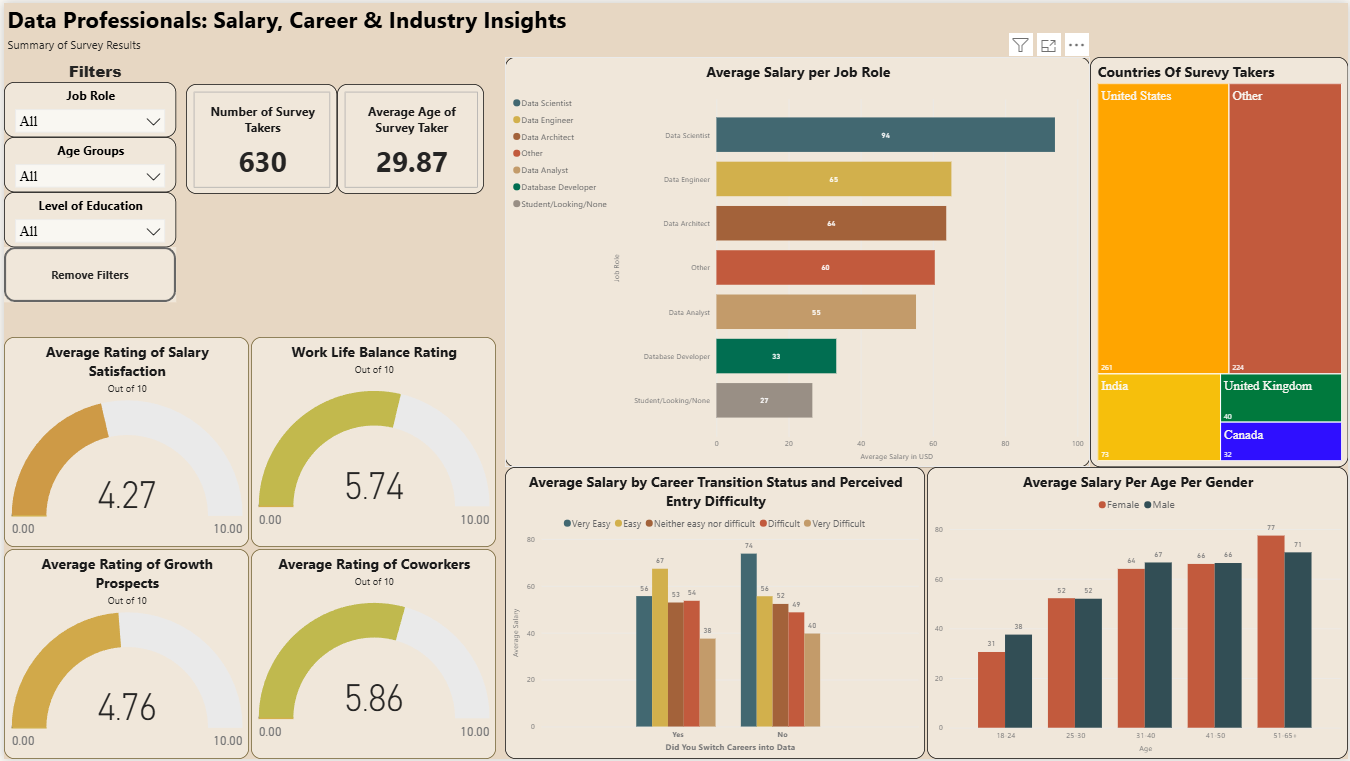

Layout of this report page (visuals, bound fields, positions):
{"tool":"powerbi","page":{"name":"Duplicate of Salary Comparisons for Data Survey","canvas":[1920,1080],"ordinal":0},"visuals":[{"type":"cardVisual","fields":{"Data":["Count(Data Professional Survey.Unique ID)"]},"box":[260,115.7,215.7,157.1],"z":0},{"type":"cardVisual","fields":{"Data":["Avg(Data Professional Survey.Q10 - Current Age)"]},"box":[475.7,115.7,210,157.1],"z":1000},{"type":"barChart","title":"Average Salary per Job Role","fields":{"Category":["Data Professional Survey.Q1 - Which Title Best Fits your Current Role?.1"],"Series":["Data Professional Survey.Q1 - Which Title Best Fits your Current Role?.1"],"Y":["Avg(Data Professional Survey.Average Salary)"]},"box":[715.7,77.1,835.7,585.7],"z":2000},{"type":"treemap","title":"Countries Of Surevy Takers","fields":{"Group":["Data Professional Survey.Q11 - Which Country do you live in?.1"],"Values":["CountNonNull(Data Professional Survey.Q11 - Which Country do you live in?.1)"]},"box":[1551.4,77.1,368.6,585.7],"z":3000},{"type":"gauge","title":"Work Life Balance Rating","fields":{"Y":["Avg(Data Professional Survey.Q6 - How Happy are you in your Current Position with the following? (Work/Life Balance))"]},"box":[352.9,477.1,350,300],"z":4000},{"type":"gauge","title":"Average Rating of Salary Satisfaction","fields":{"Y":["Avg(Data Professional Survey.Q6 - How Happy are you in your Current Position with the following? (Salary))"]},"box":[0,477.1,350,300],"z":5000},{"type":"clusteredColumnChart","title":"Average Salary Per Age Per Gender","fields":{"Category":["Data Professional Survey.Q10 - Current Age (groups)"],"Series":["Data Professional Survey.Q9 - Male/Female?"],"Y":["Avg(Data Professional Survey.Average Salary)"]},"box":[1318.6,662.9,601,417.1],"z":6000},{"type":"clusteredColumnChart","title":"Average Salary by Career Transition Status and Perceived Entry Difficulty","fields":{"Category":["Data Professional Survey.Q2 - Did you switch careers into Data?"],"Series":["Sort Order Table.Q7 - How difficult was it for you to break into Data?"],"Y":["Avg(Data Professional Survey.Average Salary)"]},"box":[715.7,662.9,600,417.1],"z":7000},{"type":"textbox","title":"Data Professionals: Salary, Career & Industry Insights","box":[0,0,1108.6,77.1],"z":8000},{"type":"textbox","box":[0,76.7,260,271.7],"z":9000},{"type":"slicer","title":"Job Role","fields":{"Values":["Data Professional Survey.Q1 - Which Title Best Fits your Current Role?.1"]},"box":[0,112.9,245.7,78.6],"z":10000},{"type":"slicer","title":"Age Groups","fields":{"Values":["Data Professional Survey.Q10 - Current Age (groups)"]},"box":[0,191.4,245.7,78.6],"z":11000},{"type":"slicer","title":"Level of Education","fields":{"Values":["Data Professional Survey.Highest Level of Eductaion"]},"box":[0,270,245.7,78.6],"z":12000},{"type":"actionButton","box":[0,348.6,245.7,78.6],"z":13000},{"type":"gauge","title":"Average Rating of Growth Prospects","fields":{"Y":["Avg(Data Professional Survey.Q6 - How Happy are you in your Current Position with the following? (Upward Mobility))"]},"box":[0,780,350,300],"z":14000},{"type":"gauge","title":"Average Rating of Coworkers","fields":{"Y":["Avg(Data Professional Survey.Q6 - How Happy are you in your Current Position with the following? (Coworkers))"]},"box":[352.9,780,350,300],"z":15000}]}

Visuals, with their boxes in screenshot pixels (x1, y1, x2, y2), scaled from the page's 1920x1080 canvas onto the 1350x761 screenshot:
cardVisual - Count(Data Professional Survey.Unique ID): left=183, top=82, right=334, bottom=192
cardVisual - Avg(Data Professional Survey.Q10 - Current Age): left=334, top=82, right=482, bottom=192
"Average Salary per Job Role" barChart: left=503, top=54, right=1091, bottom=467
"Countries Of Surevy Takers" treemap: left=1091, top=54, right=1349, bottom=467
"Work Life Balance Rating" gauge: left=248, top=336, right=494, bottom=548
"Average Rating of Salary Satisfaction" gauge: left=0, top=336, right=246, bottom=548
"Average Salary Per Age Per Gender" clusteredColumnChart: left=927, top=467, right=1349, bottom=760
"Average Salary by Career Transition Status and Perceived Entry Difficulty" clusteredColumnChart: left=503, top=467, right=925, bottom=760
"Data Professionals: Salary, Career & Industry Insights" textbox: left=0, top=0, right=779, bottom=54
textbox: left=0, top=54, right=183, bottom=245
"Job Role" slicer: left=0, top=80, right=173, bottom=135
"Age Groups" slicer: left=0, top=135, right=173, bottom=190
"Level of Education" slicer: left=0, top=190, right=173, bottom=246
actionButton: left=0, top=246, right=173, bottom=301
"Average Rating of Growth Prospects" gauge: left=0, top=550, right=246, bottom=760
"Average Rating of Coworkers" gauge: left=248, top=550, right=494, bottom=760
